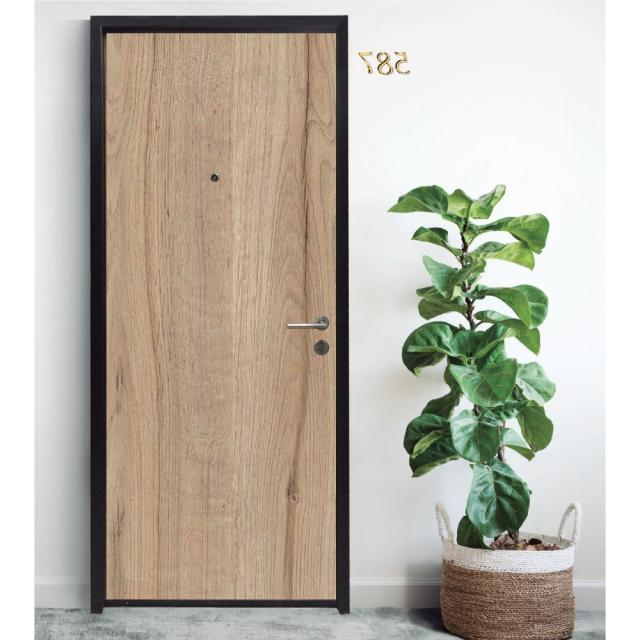door: (94, 16, 348, 611)
